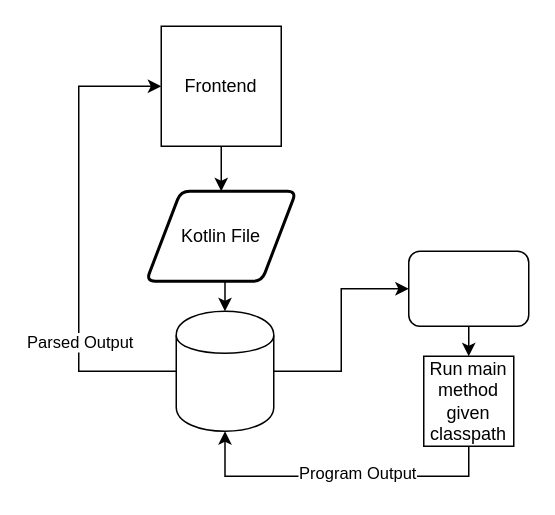
This 555x515 diagram has some shape labels left out. Each missing label, with the box of its shape:
API: (175, 310, 274, 431)
Bytecode: (407, 250, 529, 326)
